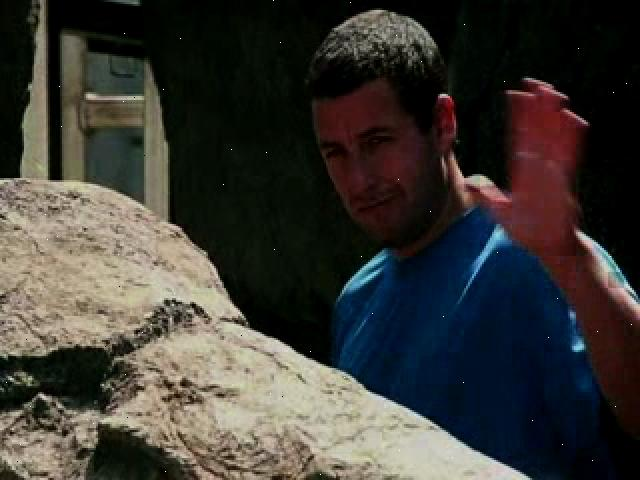L: (292, 2, 640, 480)
